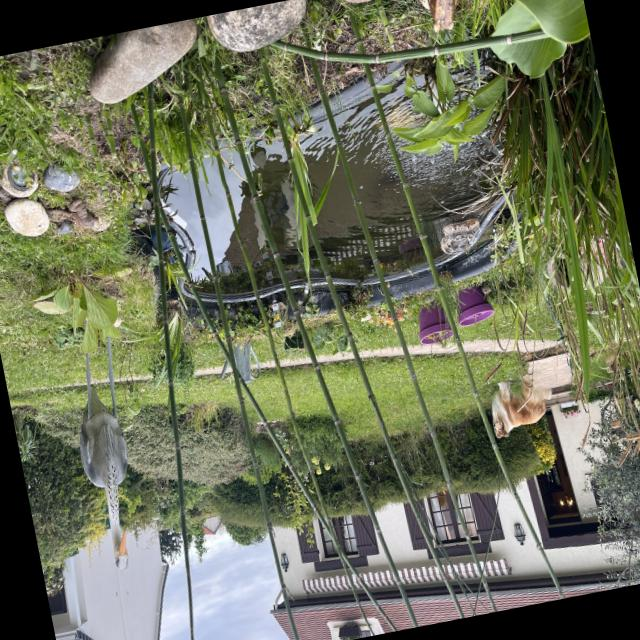Dog: (473, 356, 558, 446)
Heron: (45, 299, 158, 587)
